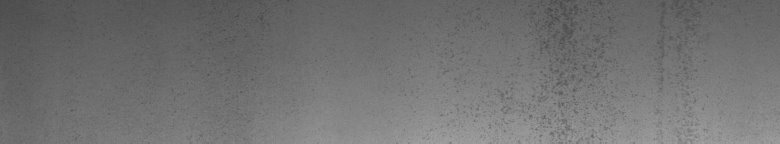ib: (440, 4, 619, 136)
